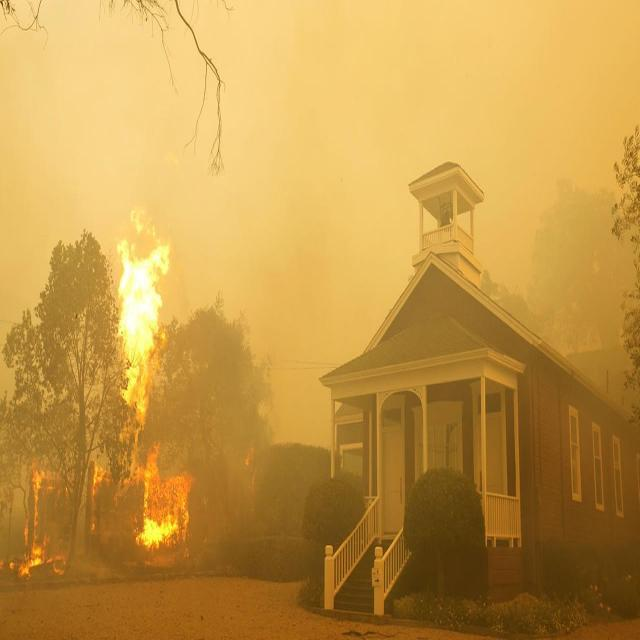Fire: (108, 207, 194, 560), (10, 457, 66, 577)
